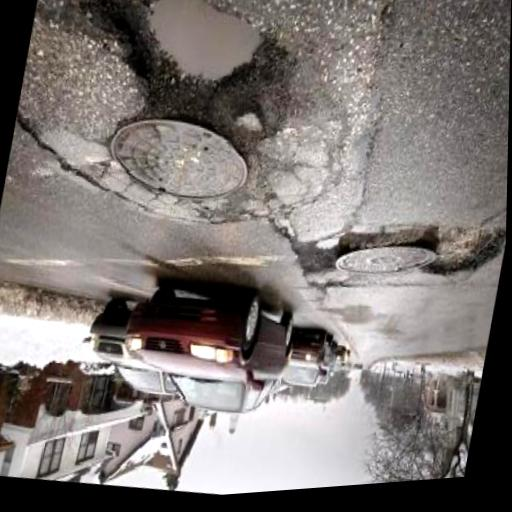pothole: (51, 0, 309, 164), (418, 208, 507, 292), (280, 220, 347, 290)
